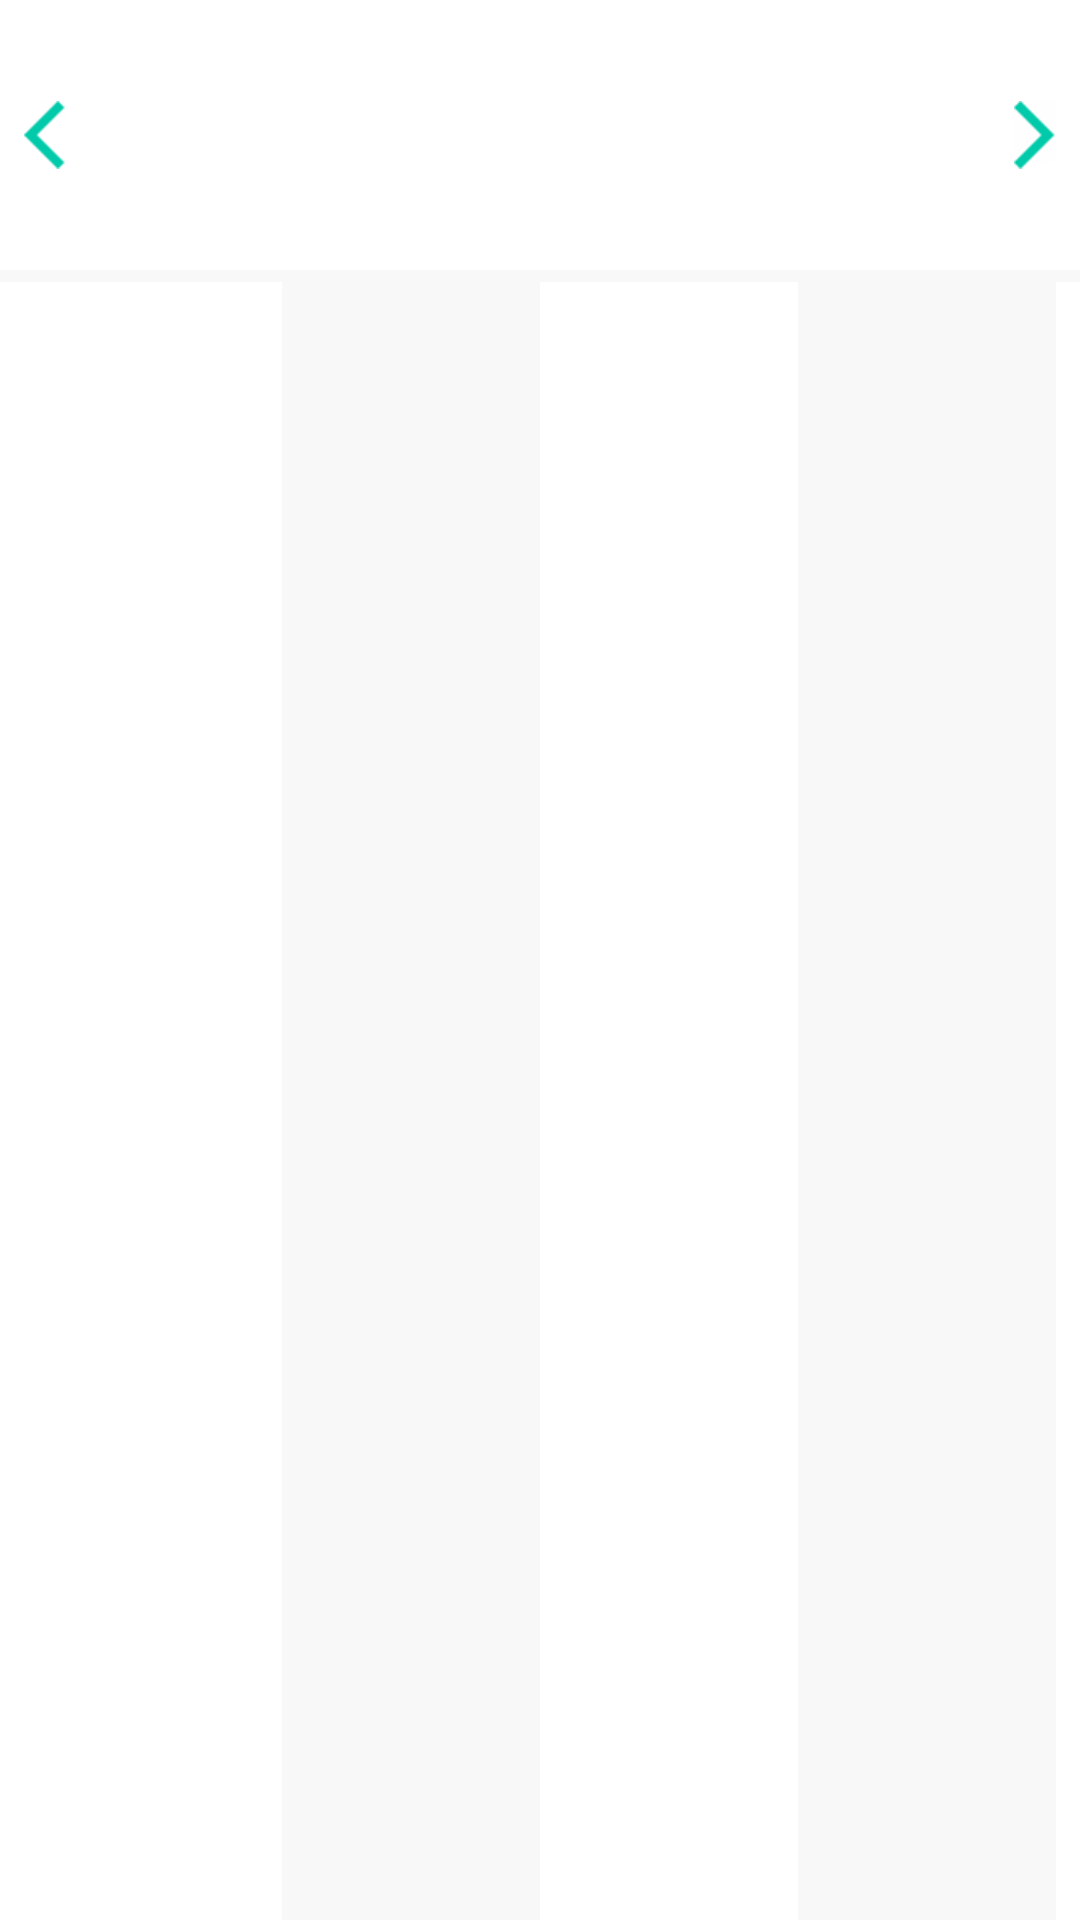

Icons on this 1080*1920 Android screen, each with its box as (x1, y1, x2, y2):
meeting date arrow left: (24, 101, 65, 169)
meeting date arrow right: (1014, 101, 1055, 169)
